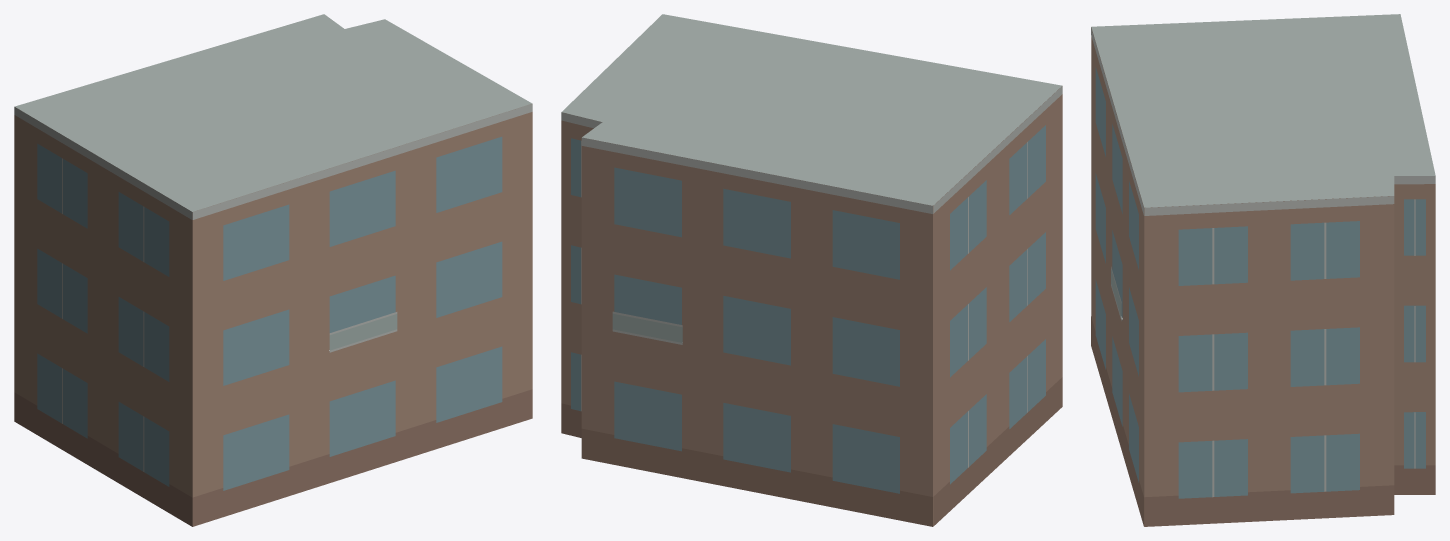
The model's file is survey-upis-32917444.glb.
3 renders of one model, left to right at view 1: azimuth 30°, elevation 25°; view 2: azimuth 150°, elevation 25°; view 3: azimuth 270°, elevation 25°, orthographic.
Visible parts, largest first — view 1: survey-upis-32917444.tmp; view 2: survey-upis-32917444.tmp; view 3: survey-upis-32917444.tmp.
Boxes of the visible parts, x1,y1,x2,y2 form: survey-upis-32917444.tmp: (14,14,532,526); survey-upis-32917444.tmp: (561,14,1062,526); survey-upis-32917444.tmp: (1091,14,1435,526).
Size of the model in its own units: 12.22 by 9.38 by 9.19.
